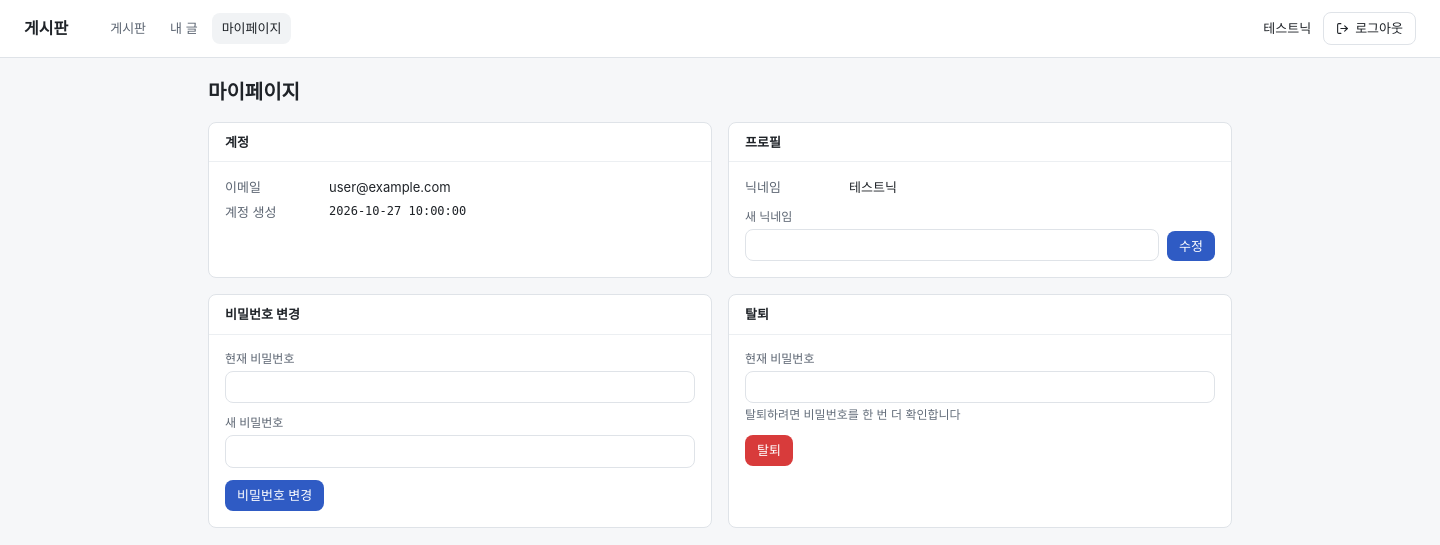
Test: 화면마다 보이는 문구 › 로그인 — 탈퇴를 마침 — 검사 목록에 걸리는 것이 없다
The width and height of the screenshot is (1440, 545).
Check: the element that starts with "마이페이지" shows "user@example.com", box top-left (329, 179), bottom-right (451, 195)
Type "Passw0rd!" into the 2nd password field labelled "현재 비밀번호" at (980, 387), box top-left (745, 371), bottom-right (1215, 403)
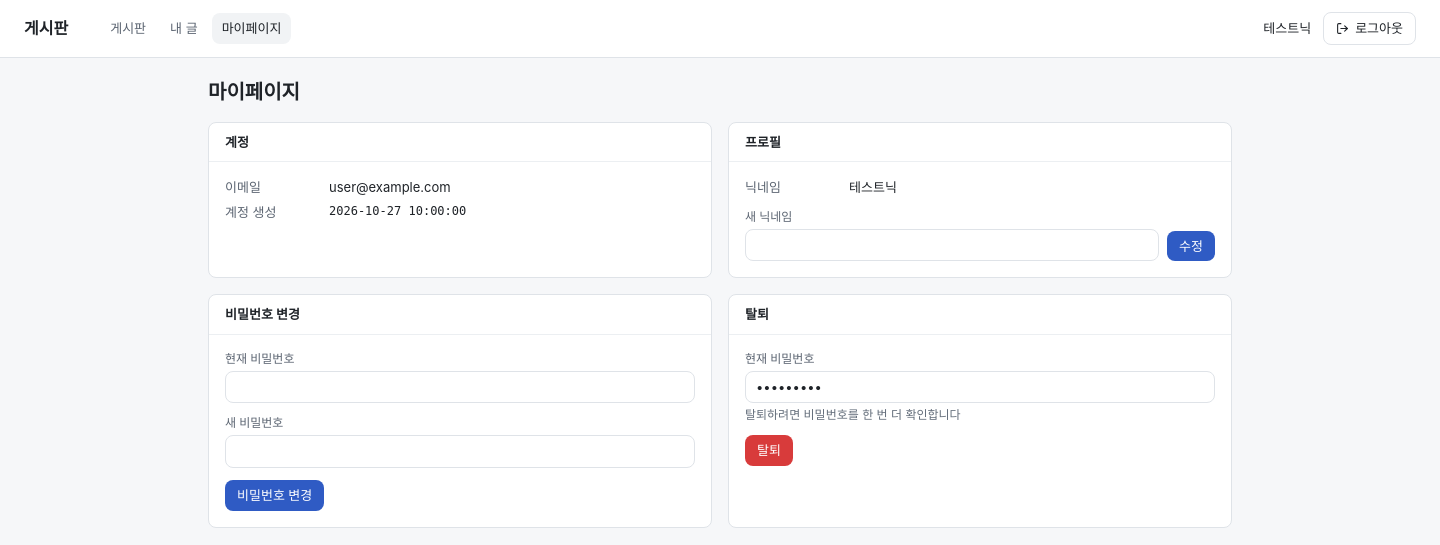
Submit the form "현재 비밀번호 탈퇴하려면 비밀번호를 한 번 더 확인합니다 탈퇴", box top-left (745, 351), bottom-right (1215, 466)
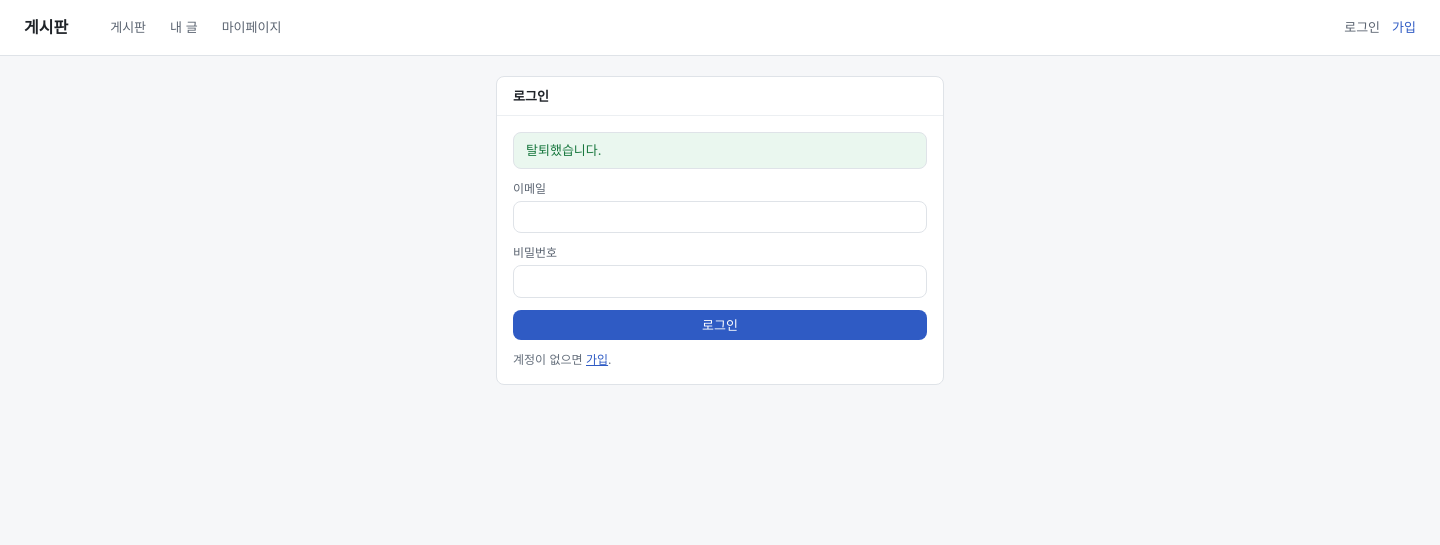
Check: the element showing "로그인 탈퇴했습니다. 이메일 비밀번호 로그인 계정이 없으면 가입 ." is shown, box top-left (496, 76), bottom-right (944, 385)
